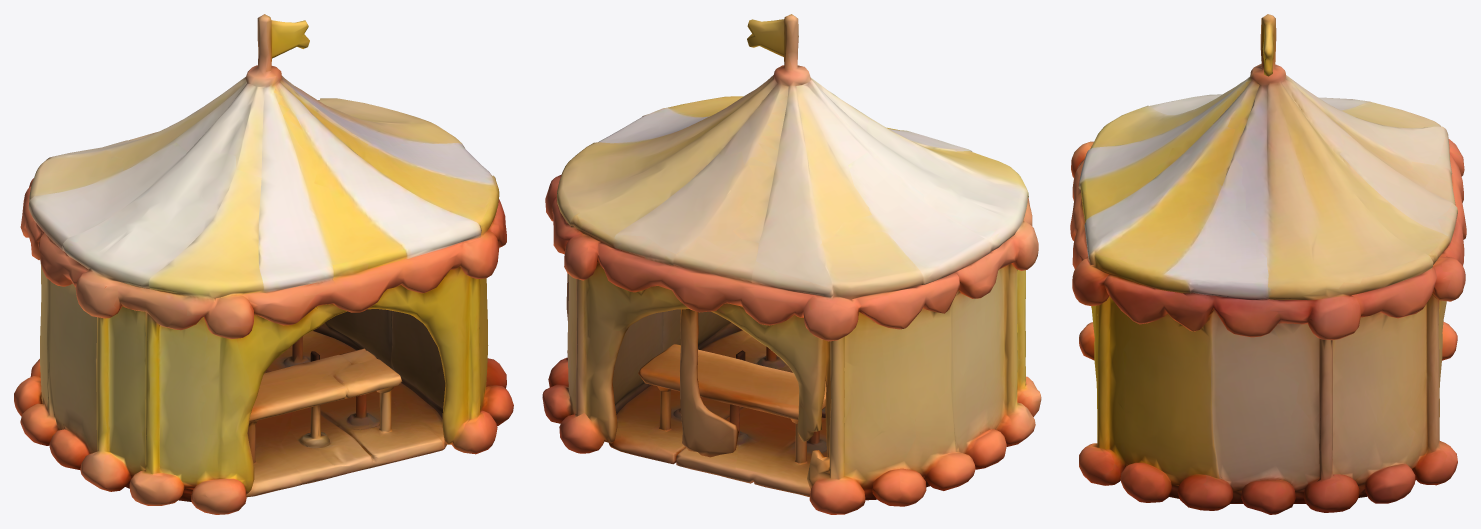
Rendered from tent.glb.
The picture shows the model from 3 angles, left to right: view 1: azimuth 30°, elevation 25°; view 2: azimuth 150°, elevation 25°; view 3: azimuth 270°, elevation 25°; orthographic projection.
Visible parts, largest first — view 1: tripo_node_ab621187-d006-44db-8d14-ddf261c70146; view 2: tripo_node_ab621187-d006-44db-8d14-ddf261c70146; view 3: tripo_node_ab621187-d006-44db-8d14-ddf261c70146.
Part boxes in pixels (x1,y1,x2,y2): tripo_node_ab621187-d006-44db-8d14-ddf261c70146: (14,14,513,514); tripo_node_ab621187-d006-44db-8d14-ddf261c70146: (542,14,1041,514); tripo_node_ab621187-d006-44db-8d14-ddf261c70146: (1070,14,1466,514).
Bounding box in the file's own units: 1 × 0.9048 × 0.8079.
1 material, 1 textured.
